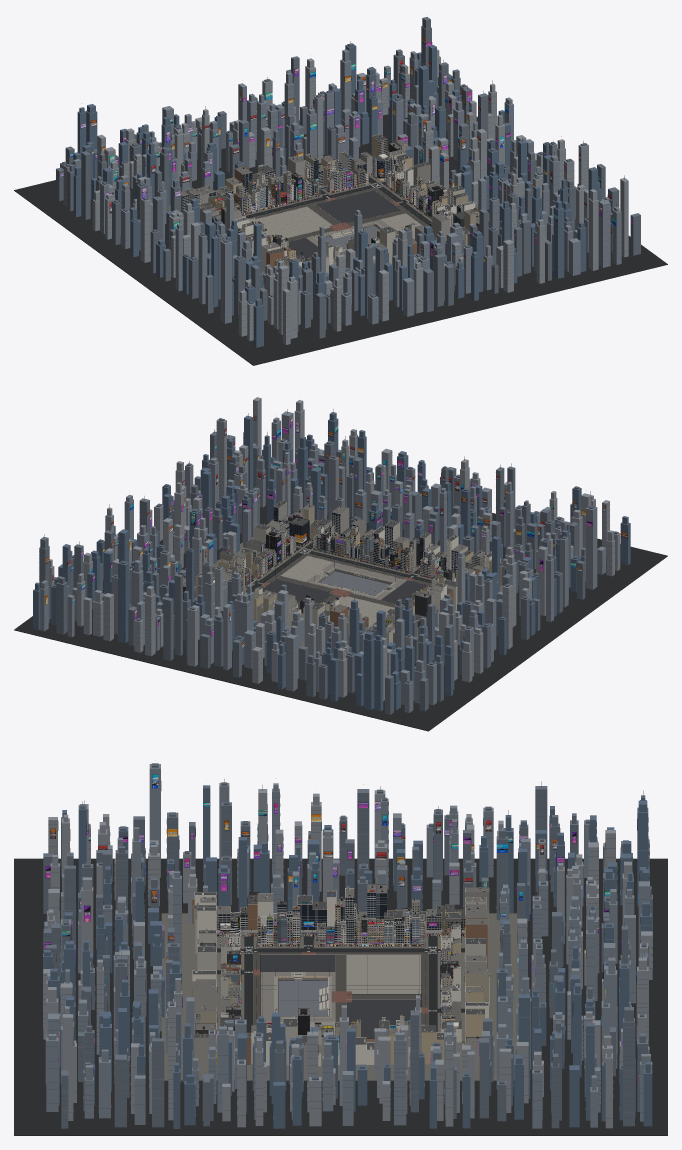
Rendered from HEX_City_v3_A.fbx.
3 views of the same model, one above another, from view 1: azimuth 30°, elevation 25°; view 2: azimuth 150°, elevation 25°; view 3: azimuth 270°, elevation 25° (orthographic). The views are drawn at different scales.
Visible parts, largest first — view 1: Skyline_Sector_06, Skyline_Sector_03, Skyline_Sector_11, City_Street_01, Skyline_Sector_10, Skyline_Sector_15, Skyline_Sector_07, Skyline_Sector_02, Skyline_Sector_04, Skyline_Sector_14, Skyline_Sector_05, Skyline_Sector_12 (+11 smaller); view 2: Skyline_Sector_11, Skyline_Sector_14, Skyline_Sector_06, Skyline_Sector_15, Skyline_Sector_12, Skyline_Sector_07, Skyline_Sector_10, Skyline_Sector_03, Skyline_Sector_13, Skyline_Sector_02, City_Street_03, Skyline_Sector_01 (+14 smaller); view 3: Skyline_Sector_07, Skyline_Sector_10, City_Street_02, City_Street_04, Skyline_Sector_11, City_Street_01, Skyline_Sector_06, Skyline_Sector_09, Skyline_Sector_08, City_Street_03, Skyline_Sector_15, Skyline_Sector_14 (+22 smaller).
Part boxes in pixels (x1,y1,x2,y2): Skyline_Sector_06: (445, 186, 621, 283); Skyline_Sector_03: (273, 226, 372, 344); Skyline_Sector_11: (305, 41, 421, 159); City_Street_01: (165, 286, 460, 365); Skyline_Sector_10: (392, 17, 476, 169); Skyline_Sector_15: (56, 139, 199, 239); Skyline_Sector_07: (498, 141, 640, 257); Skyline_Sector_02: (205, 223, 283, 347); Skyline_Sector_04: (354, 210, 443, 324); Skyline_Sector_14: (60, 104, 224, 205); Skyline_Sector_05: (402, 223, 517, 305); Skyline_Sector_12: (238, 56, 322, 176); Skyline_Sector_11: (33, 545, 231, 656); Skyline_Sector_14: (306, 597, 413, 714); Skyline_Sector_06: (271, 400, 366, 531); Skyline_Sector_15: (386, 595, 483, 711); Skyline_Sector_12: (163, 563, 274, 670); Skyline_Sector_07: (194, 397, 290, 537); Skyline_Sector_10: (39, 521, 201, 622); Skyline_Sector_03: (448, 463, 609, 569); Skyline_Sector_13: (233, 584, 327, 691); Skyline_Sector_02: (492, 505, 630, 599); City_Street_03: (221, 652, 515, 731); Skyline_Sector_01: (457, 534, 568, 636); Skyline_Sector_07: (61, 978, 246, 1128); Skyline_Sector_10: (415, 990, 635, 1128); City_Street_02: (14, 997, 253, 1135); City_Street_04: (428, 997, 667, 1135); Skyline_Sector_11: (496, 943, 652, 1126); City_Street_01: (14, 858, 253, 996); Skyline_Sector_06: (45, 935, 173, 1111); Skyline_Sector_09: (339, 1000, 456, 1128); Skyline_Sector_08: (222, 1008, 337, 1128); City_Street_03: (428, 858, 667, 996); Skyline_Sector_15: (411, 781, 597, 920); Skyline_Sector_14: (499, 790, 652, 954).
Bounding box in the file's own units: 300000 × 63655 × 300000.
